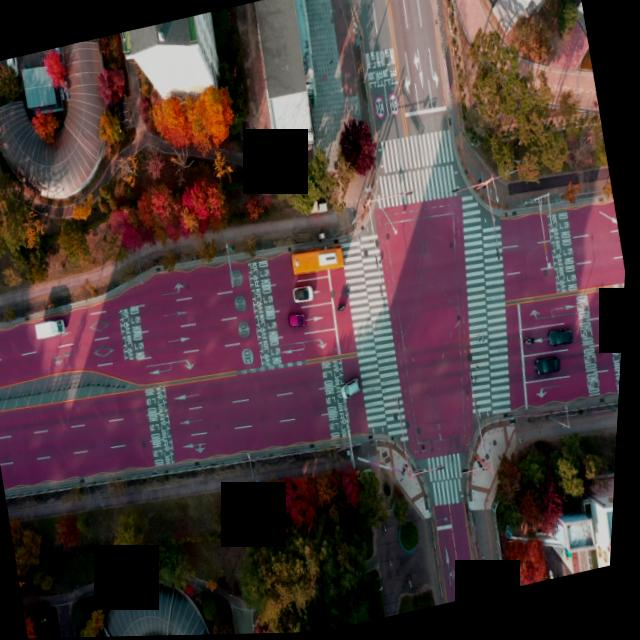car: (341, 375, 368, 402), (551, 328, 579, 349), (539, 356, 565, 377), (293, 284, 317, 304), (292, 313, 311, 330)
large_bus: (291, 243, 349, 280)
small_truck: (35, 317, 71, 344)
